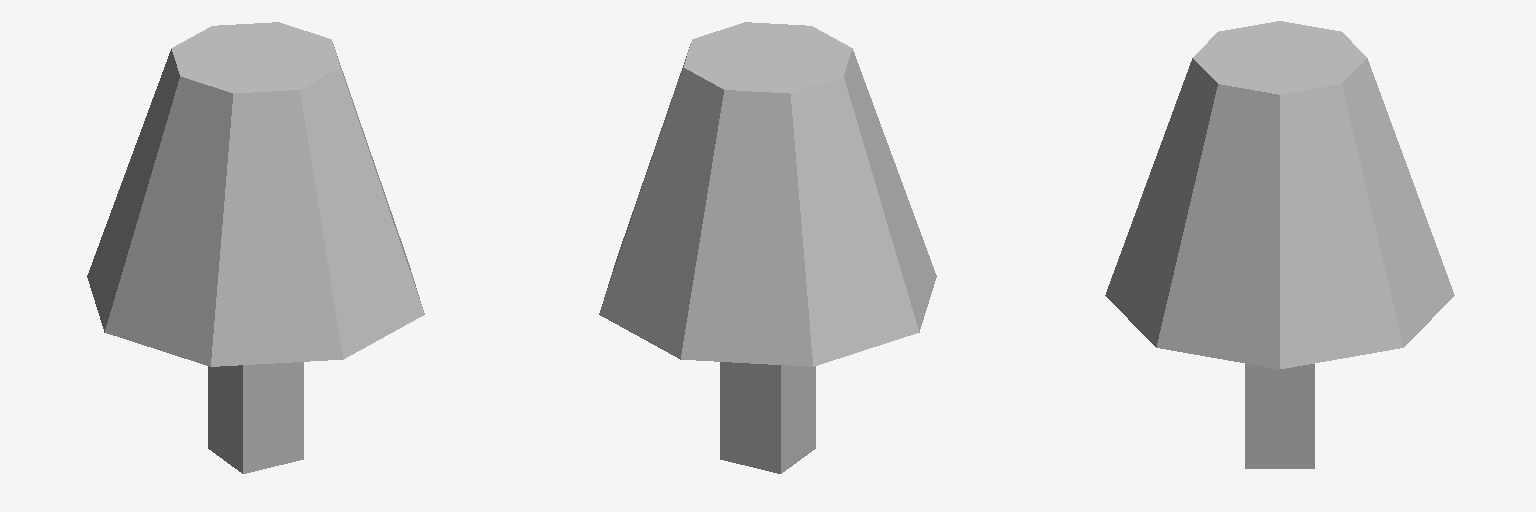
The model's file is lamp.obj.
The picture shows the model from 3 angles: view 1: azimuth 30°, elevation 25°; view 2: azimuth 150°, elevation 25°; view 3: azimuth 270°, elevation 25°; orthographic projection.
Bounding box in the file's own units: 2 × 2.5 × 2.